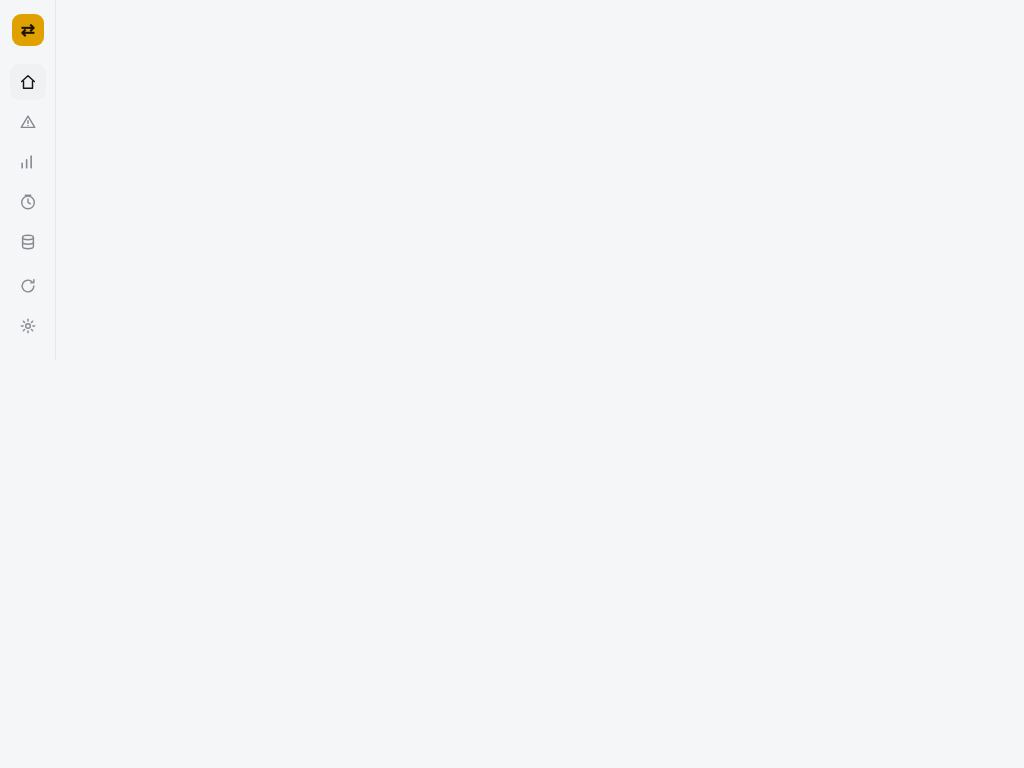
it: the reload-demo-data control › asks before throwing away whatever is loaded
Click the button named "reload demo data": (28, 286) [10,268,46,304]
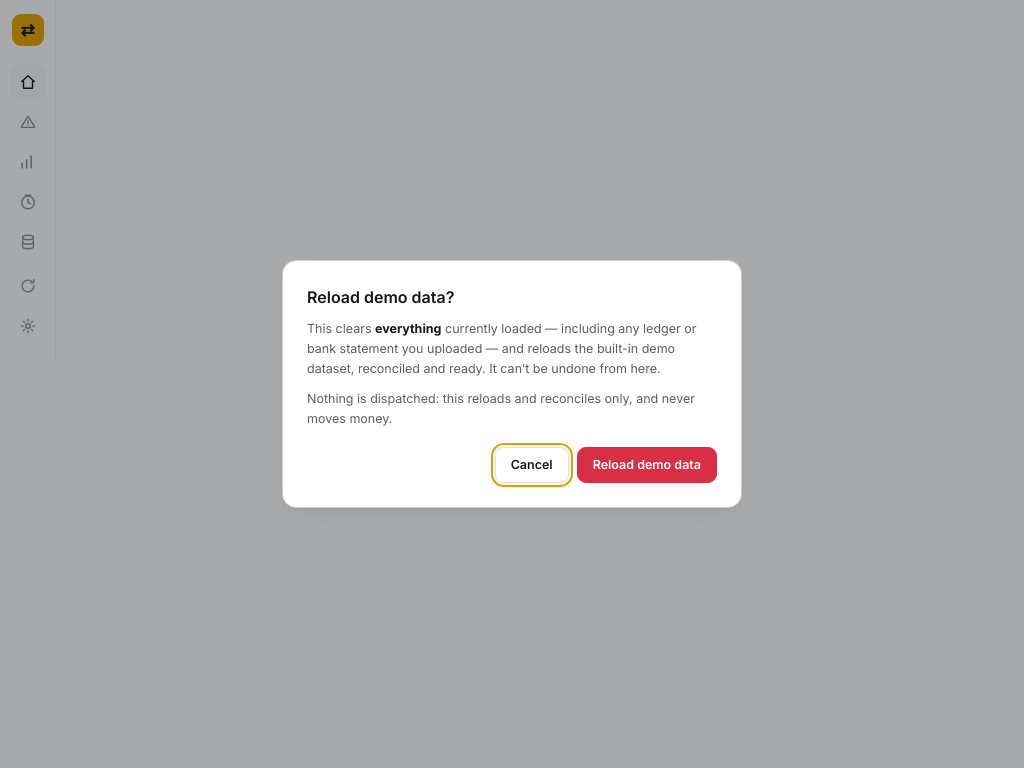
Check: the dialog is shown, box [282,260,742,508]
